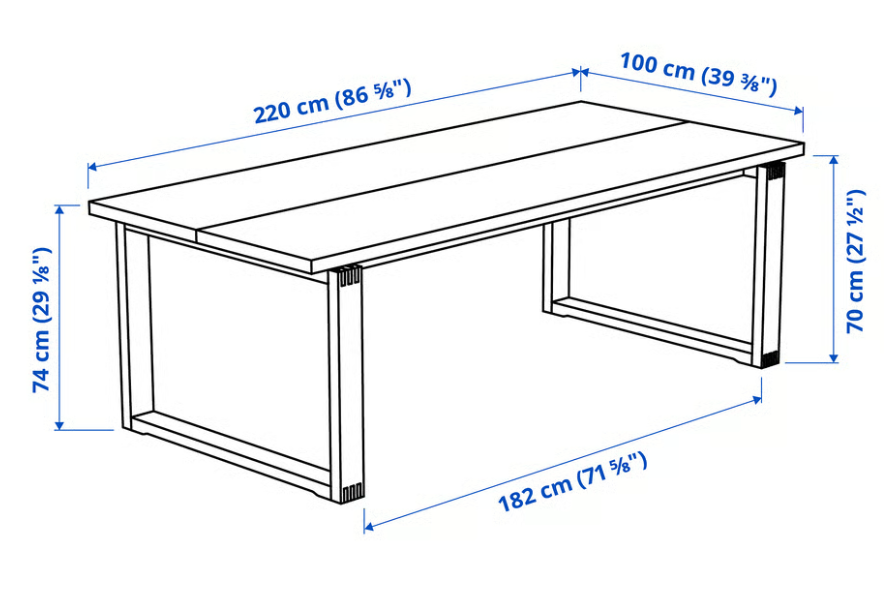table_legs: (116, 222, 364, 504), (543, 162, 785, 368)
table_top: (89, 101, 804, 274)
